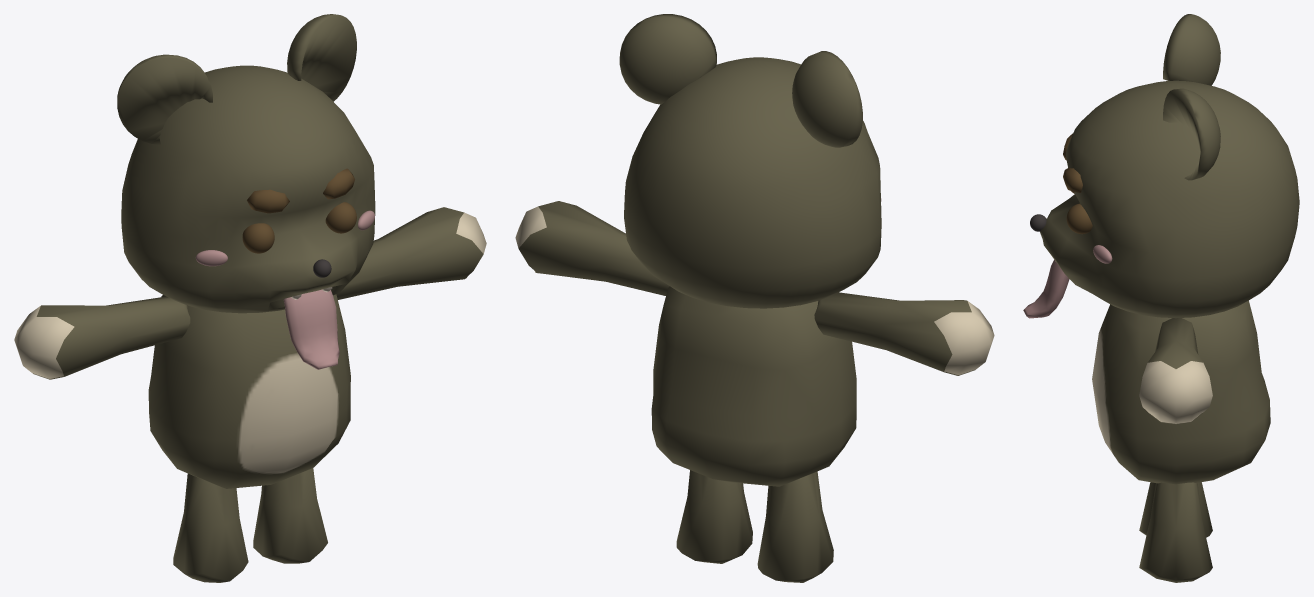
File: player.gltf
The picture shows the model from 3 angles, left to right: view 1: azimuth 30°, elevation 25°; view 2: azimuth 150°, elevation 25°; view 3: azimuth 270°, elevation 25°; orthographic projection. The views are drawn at different scales.
Parts seen in each view (by area): view 1: 球; view 2: 球; view 3: 球.
Boxes of the visible parts, x1=… form: 球: x1=14, y1=14, x2=486, y2=582; 球: x1=515, y1=14, x2=994, y2=582; 球: x1=1023, y1=14, x2=1299, y2=582.
Size of the model in its own units: 3.73 by 4.04 by 2.01.
